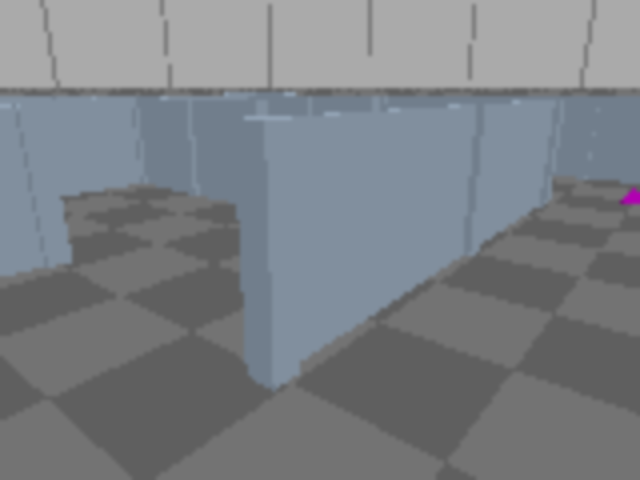goal_zone: (620, 190, 638, 216)
